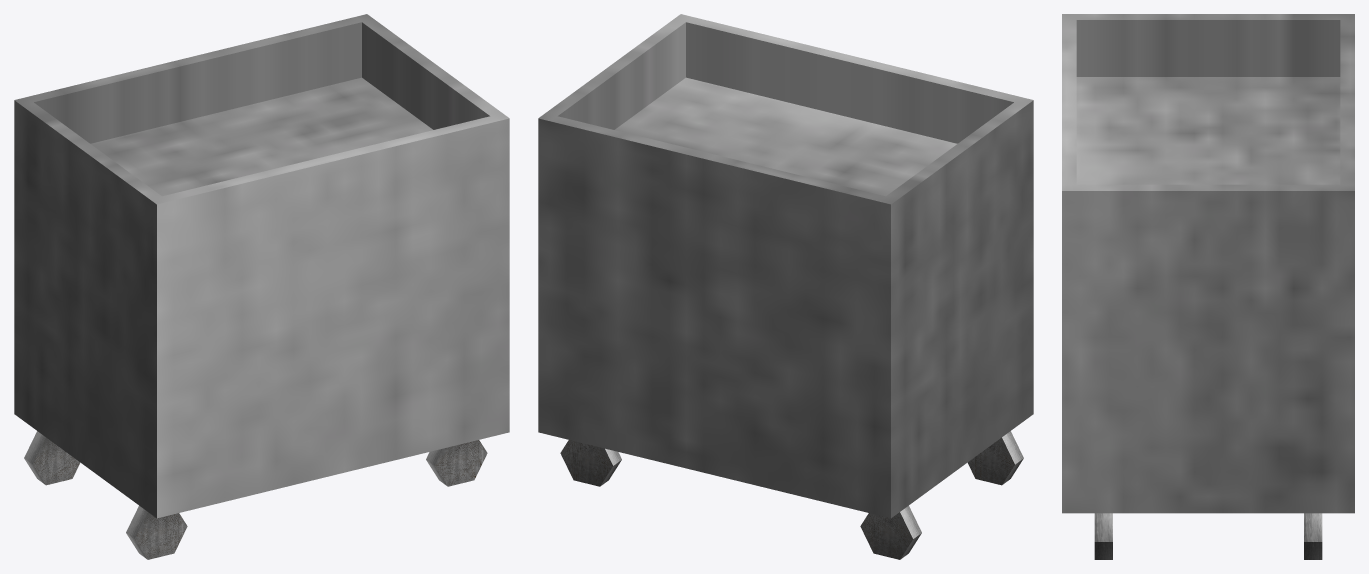
File: table.fbx
The picture shows the model from 3 angles, left to right: view 1: azimuth 30°, elevation 25°; view 2: azimuth 150°, elevation 25°; view 3: azimuth 270°, elevation 25°; orthographic projection. The views are drawn at different scales.
Visible parts, largest first — view 1: ShelfOnWheels; view 2: ShelfOnWheels; view 3: ShelfOnWheels.
Part boxes in pixels (x1,y1,x2,y2): ShelfOnWheels: (14,14,509,559); ShelfOnWheels: (538,14,1033,559); ShelfOnWheels: (1062,14,1354,559).
Size of the model in its own units: 122 by 120 by 84.
Materials: 1 (1 with a texture image).
